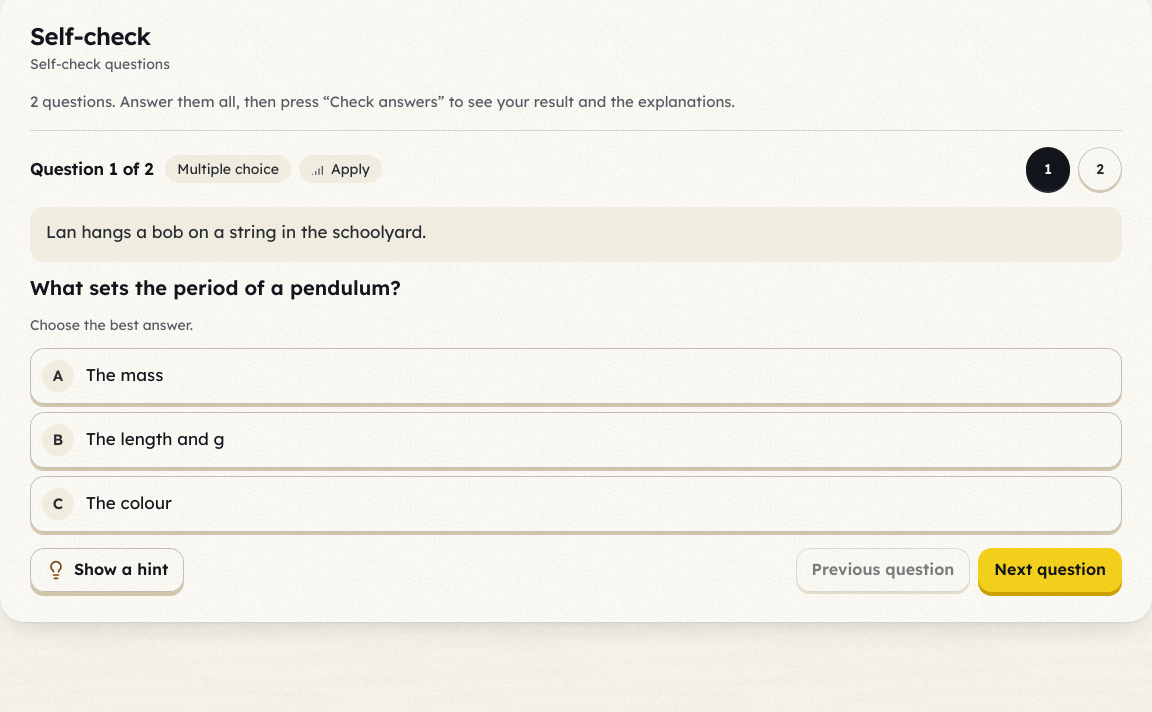
QuizBlock learner view: situation, hint and feedback › explains the pick and the right option after checking, and the others on request
Click the radio button labelled "A The mass": click(58, 376) [30,348,1122,404]
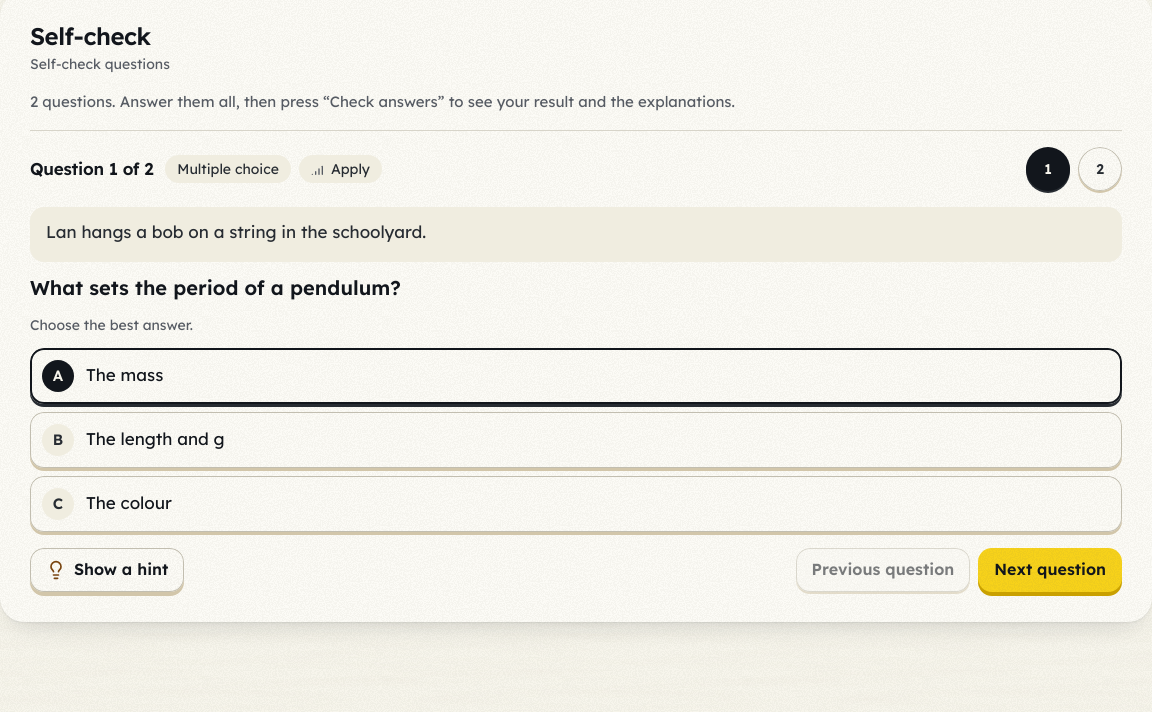
Click the button "Next question": click(1050, 570) [978,548,1122,592]
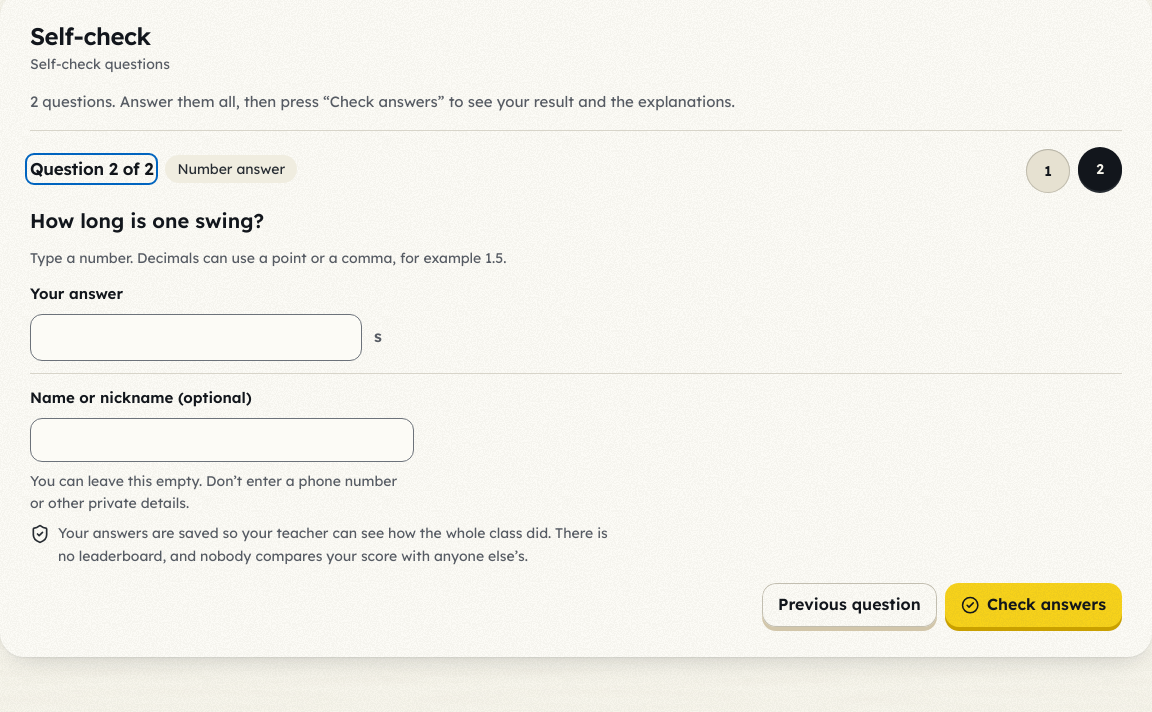
In the field labelled "Your answer": (196, 337) [30,314,362,360], type "2"
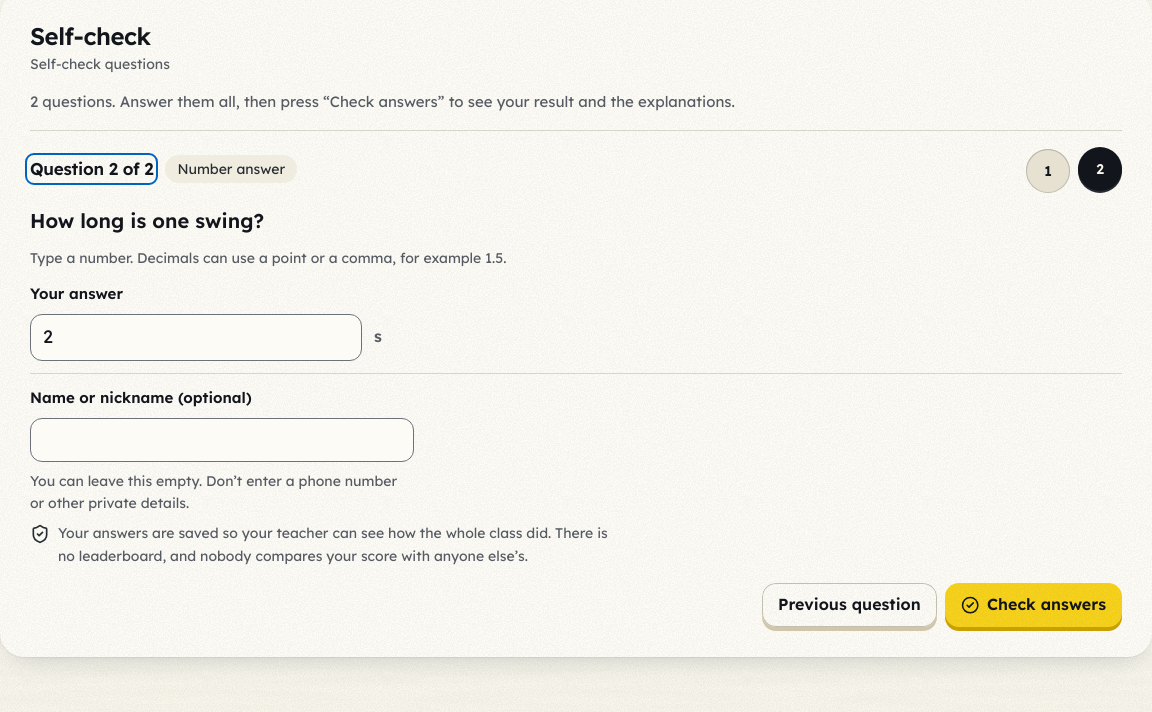
Click the button "Check answers": click(1033, 605) [945,583,1122,627]
(page scrolled)
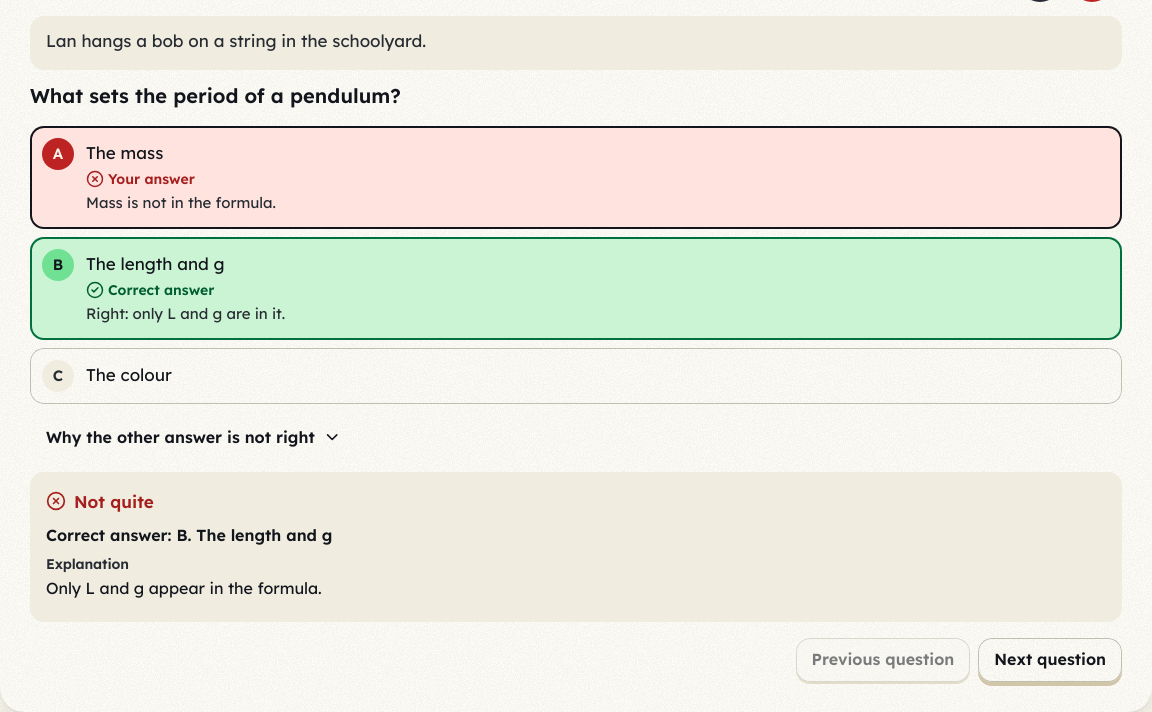
Click the button "Why the other answer is not right": click(194, 438) [30,416,357,460]
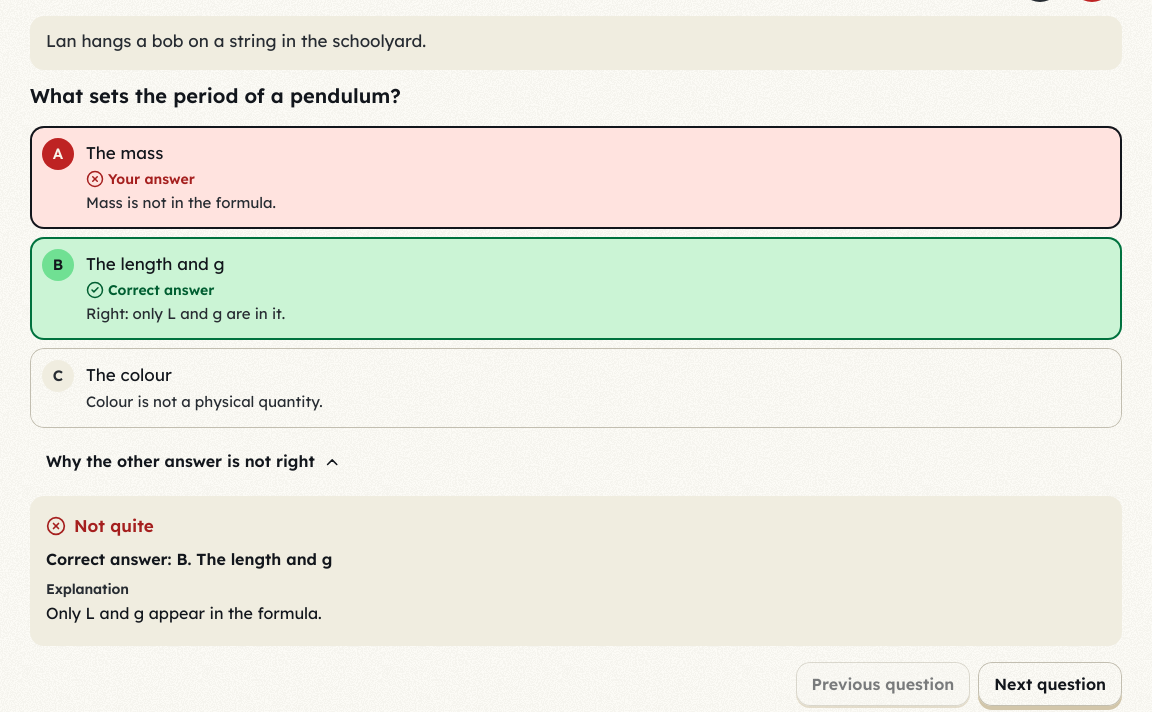
Check: the element with class "is-wrong" that starts with "Not quite" is shown, box [30,496,1122,646]
Check: the text "Correct answer: B. The length and g" is shown, box [46,549,332,569]
Check: the button "Why the other answer is not right" is expanded, box [30,440,357,484]
Note: the learner payload has no tolerance: no guessed margin is shown for the number
Click the button "Next question": click(1050, 684) [978,662,1122,706]
(page scrolled)
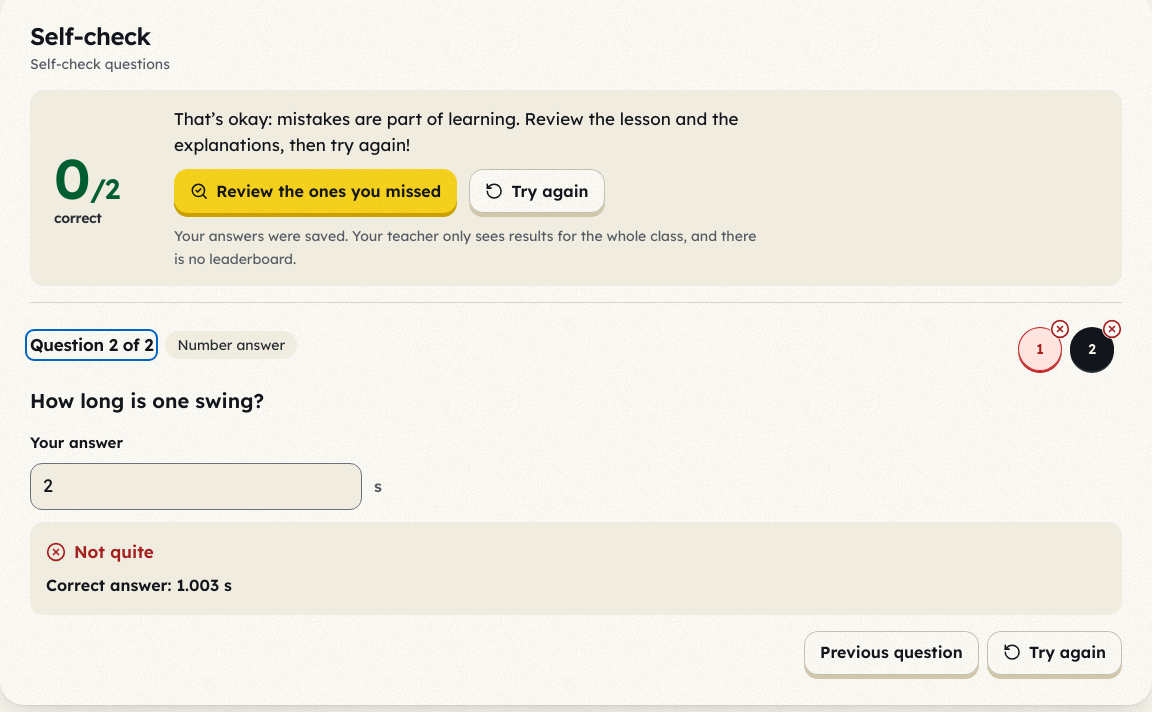
Check: the text "Correct answer: 1.003 s" is shown, box [46,575,232,595]
